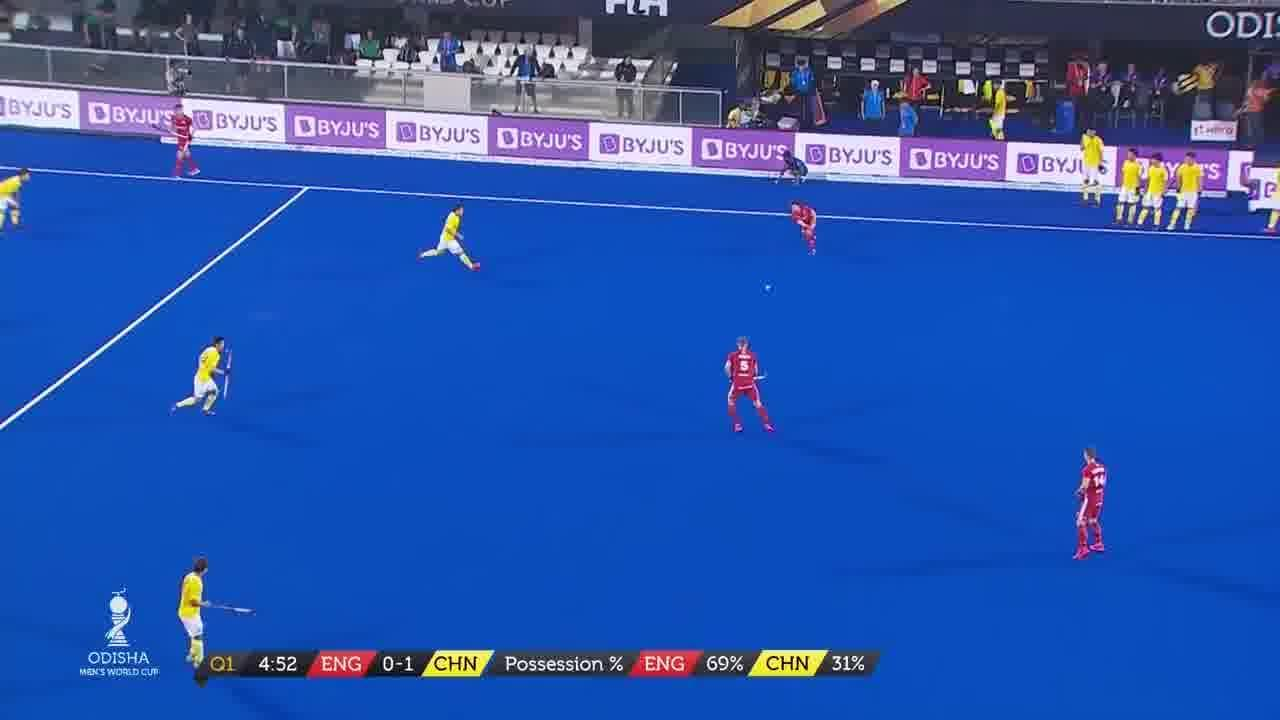ball: (765, 284, 777, 294)
